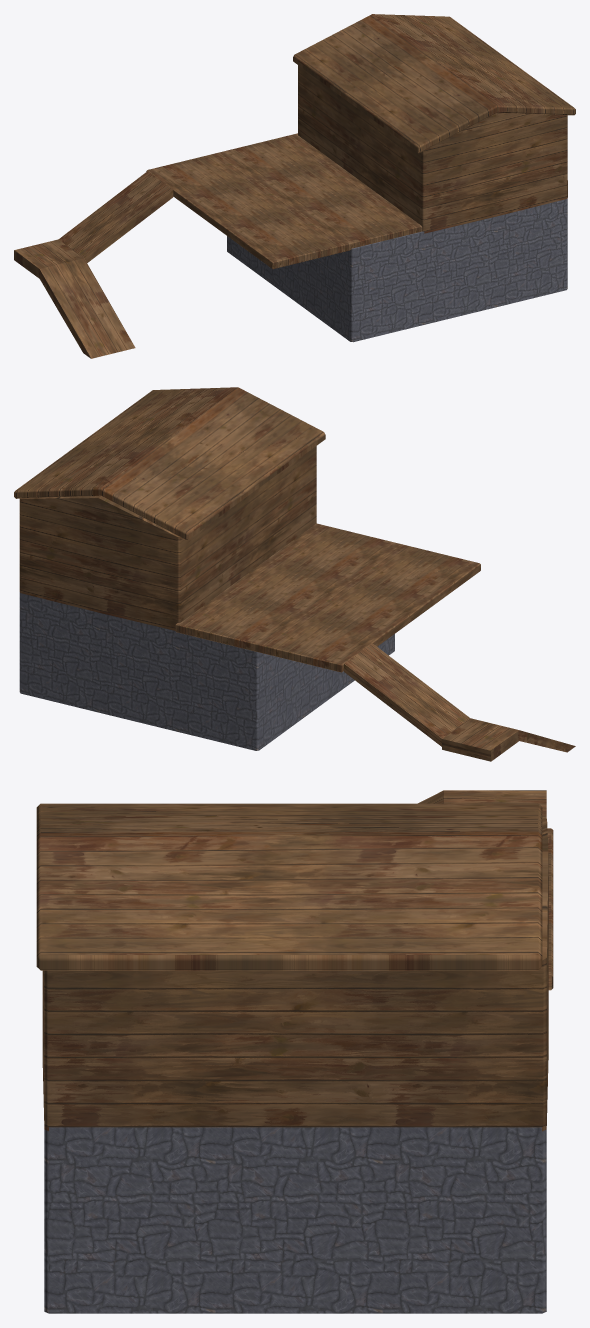
3 renders of one model, top to bottom at view 1: azimuth 30°, elevation 25°; view 2: azimuth 150°, elevation 25°; view 3: azimuth 270°, elevation 25°, orthographic. The views are drawn at different scales.
Visible parts, largest first — view 1: Plane.022, Plane.024, Plane.100, HeadFloor.006, HQStairs; view 2: Plane.022, Plane.024, Plane.100, HeadFloor.006, HQStairs; view 3: Plane.022, Plane.100, Plane.024, HQStairs, HeadFloor.006.
Part boxes in pixels (x1,y1,x2,y2): Plane.022: (227,198,567,342); Plane.024: (298,65,567,233); Plane.100: (293,14,575,152); HeadFloor.006: (146,133,422,269); HQStairs: (14,171,173,358); Plane.022: (19,592,394,750); Plane.024: (19,446,316,630); Plane.100: (14,387,325,540); HeadFloor.006: (175,523,480,672); HQStairs: (344,643,575,761); Plane.022: (44,1127,546,1313); Plane.100: (36,803,542,970); Plane.024: (42,818,548,1131); HQStairs: (418,790,546,818); HeadFloor.006: (547,828,553,990).
Size of the model in its own units: 24.45 by 10.89 by 12.56.
